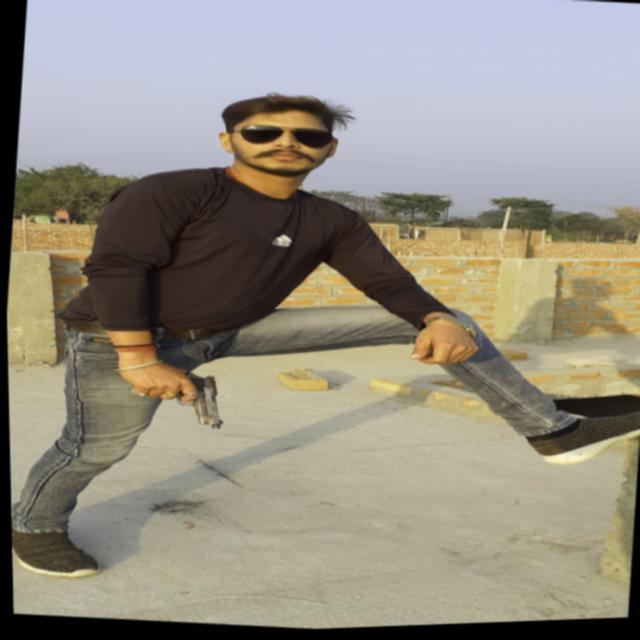weapon: (116, 364, 228, 436)
